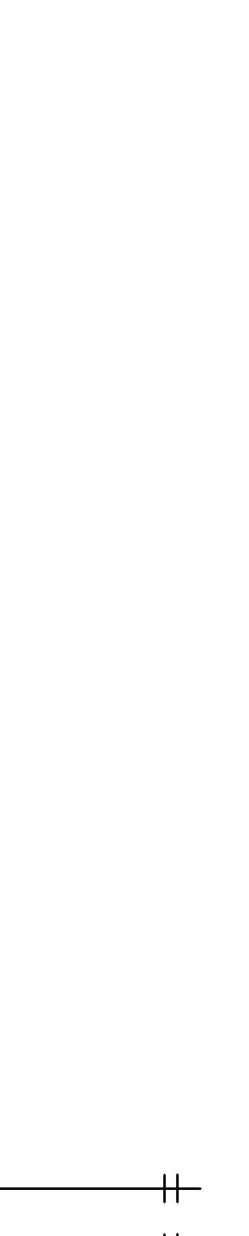115_buffer: (163, 1173, 179, 1204)
